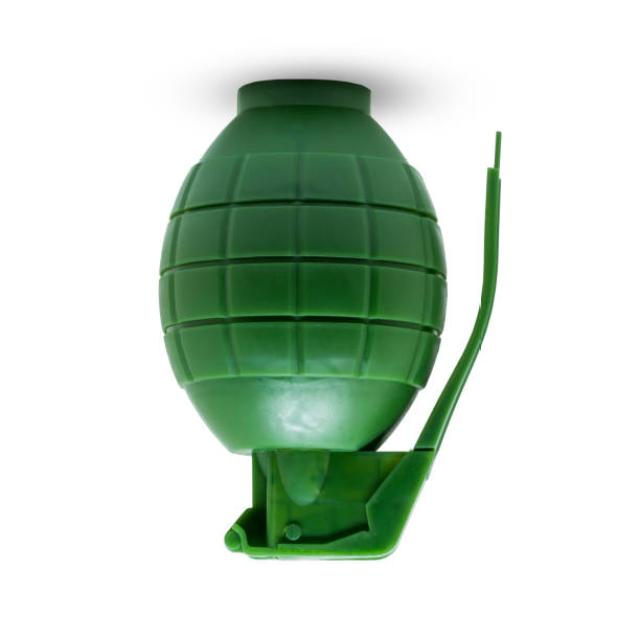grenade: (153, 72, 517, 577)
